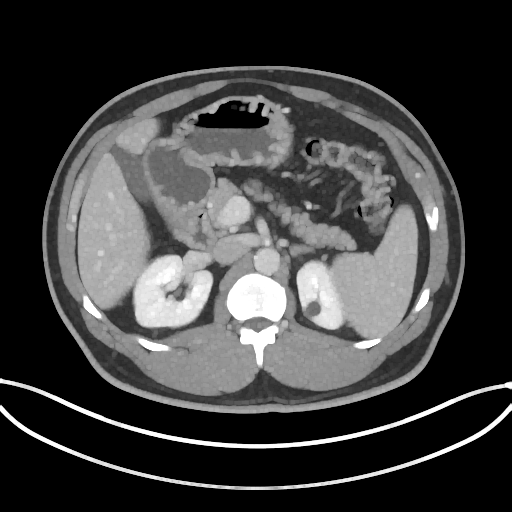Lesion: (301, 299, 323, 321)
